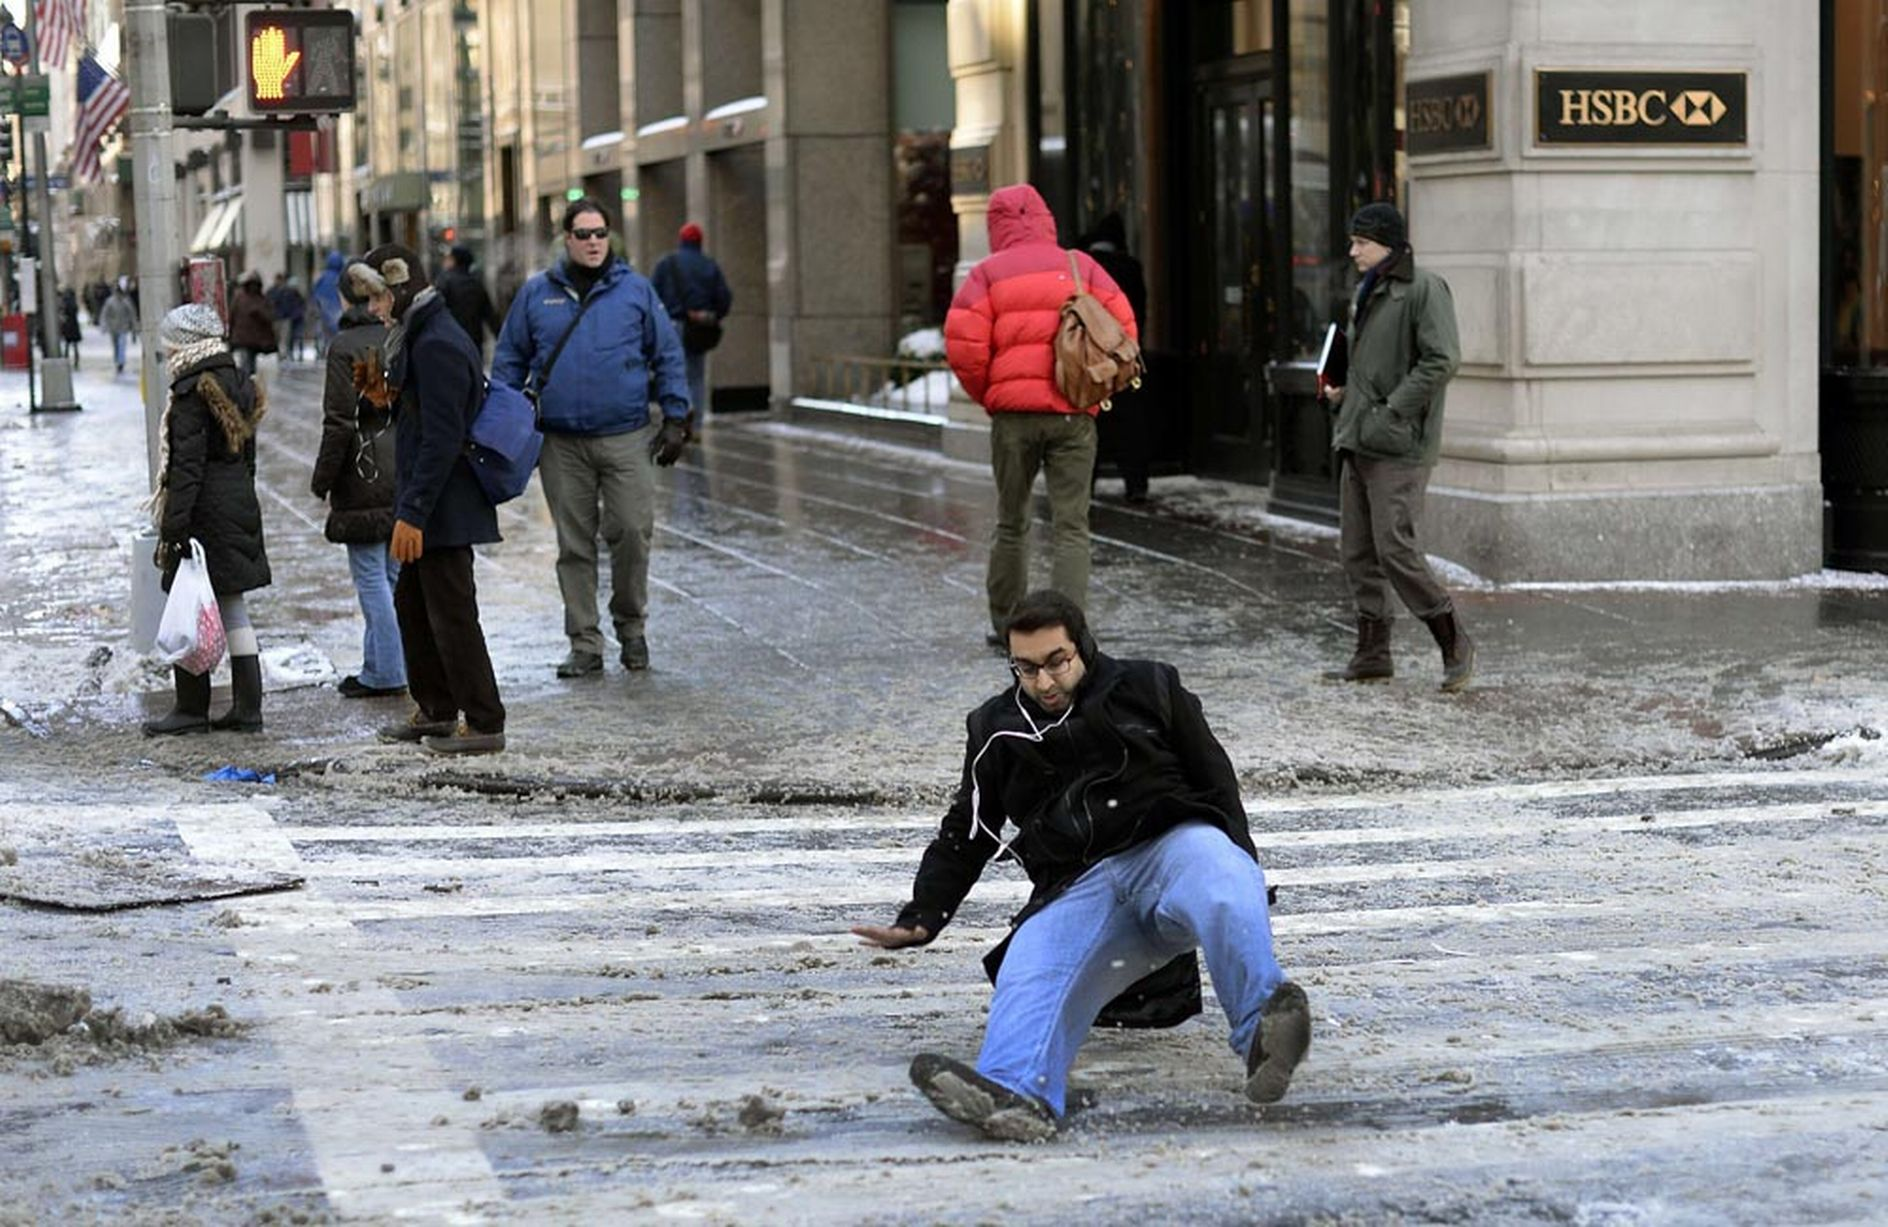10+: (11, 177, 1510, 772)
down: (855, 585, 1325, 1128)
